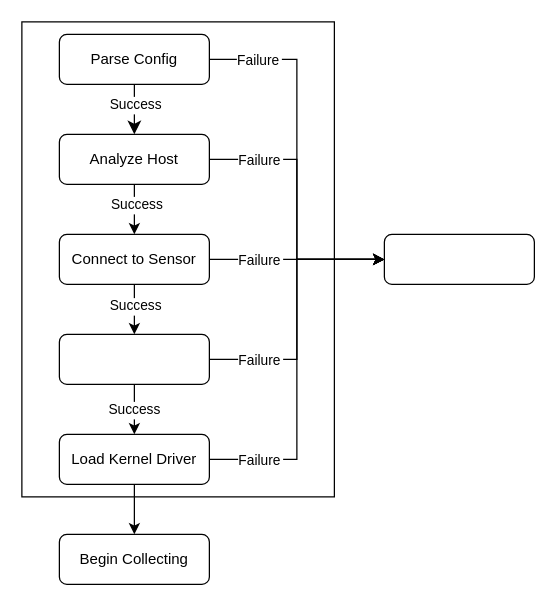
Image size: 556x606. Some labels were removed from this diagram. Here are the shapes that lost their labels. From the top down, the centre of each, then its label:
At (x=458, y=258): "FATAL".
At (x=133, y=358): "Search for Kernel Driver".
